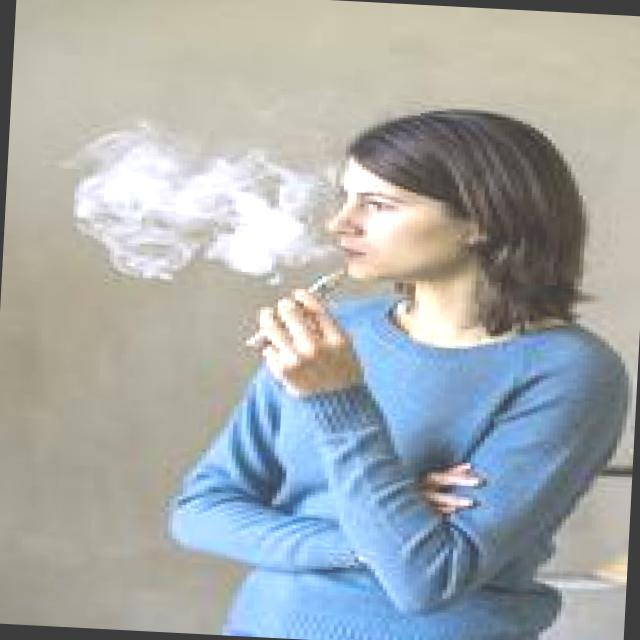cigarette: (220, 217, 385, 356)
